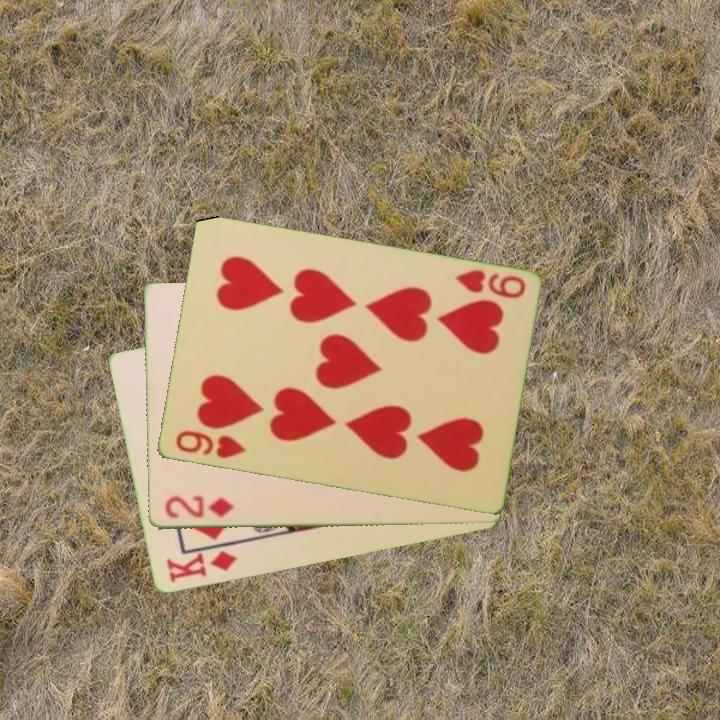2d: (161, 492, 236, 522)
9h: (450, 266, 528, 302), (172, 427, 248, 462)
Kd: (162, 547, 239, 587)
